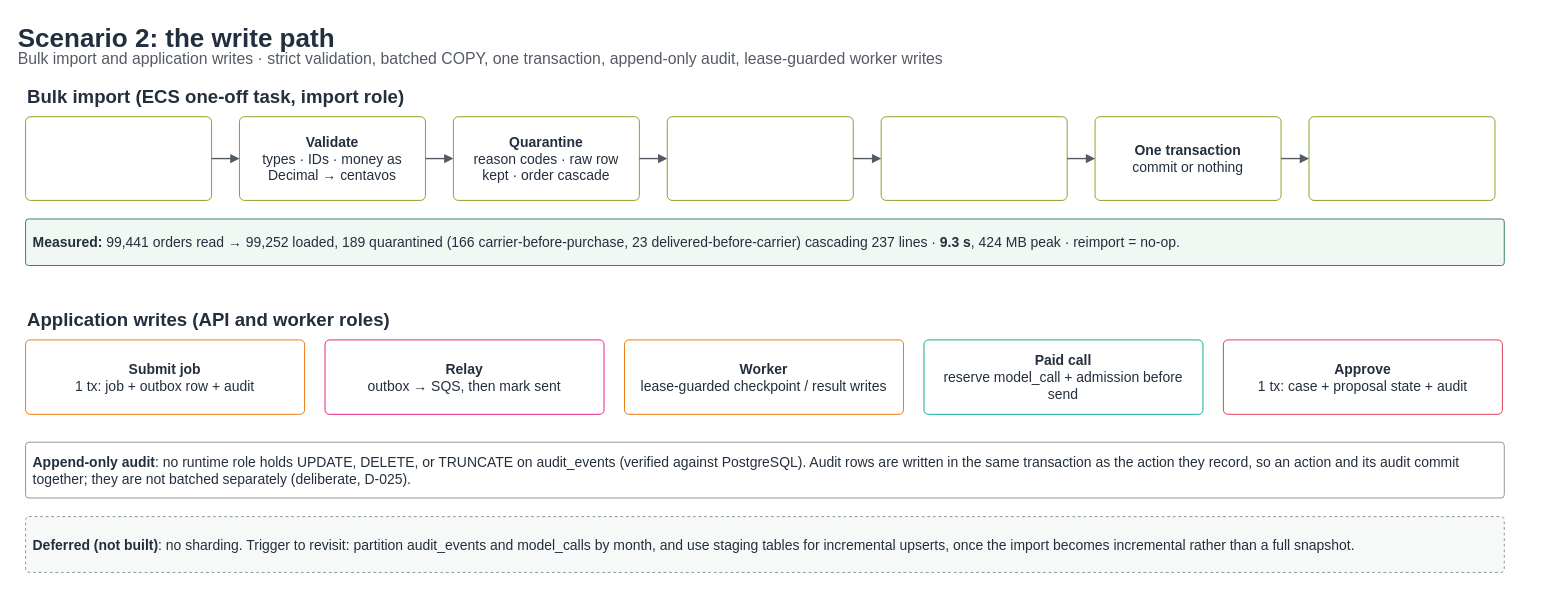
This 1557x589 diagram has some shape labels left out. The box of each missing label's shape, as (x1, y1, x2, y2) in pixels:
5 Olist CSVs S3 imports/ · exact headers: (25, 116, 212, 200)
COPY 1,000-row batches: (880, 116, 1067, 200)
Dedupe identical kept once · conflict fails import: (666, 116, 853, 200)
Manifest SHA-256 per file · same files ⇒ same hash: (1308, 116, 1495, 200)
